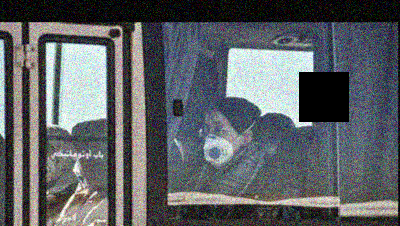with_mask: (201, 119, 237, 171)
